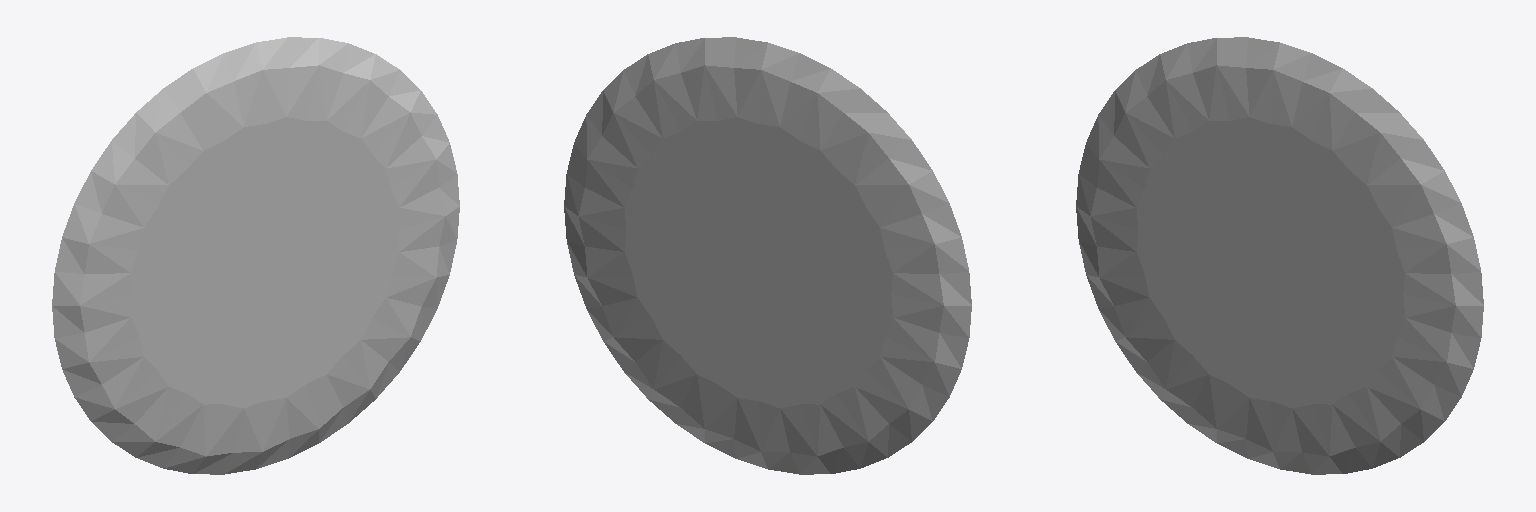
File: glass.obj
The picture shows the model from 3 angles: view 1: azimuth 30°, elevation 25°; view 2: azimuth 150°, elevation 25°; view 3: azimuth 330°, elevation 25°; orthographic projection.
Visible parts, largest first — view 1: polySurface43 loftedSurface7; view 2: polySurface43 loftedSurface7; view 3: polySurface43 loftedSurface7.
Boxes of the visible parts, x1=… form: polySurface43 loftedSurface7: x1=52, y1=37, x2=459, y2=474; polySurface43 loftedSurface7: x1=564, y1=37, x2=971, y2=474; polySurface43 loftedSurface7: x1=1076, y1=37, x2=1483, y2=474.
Size of the model in its own units: 3.26 by 3.26 by 0.2518.